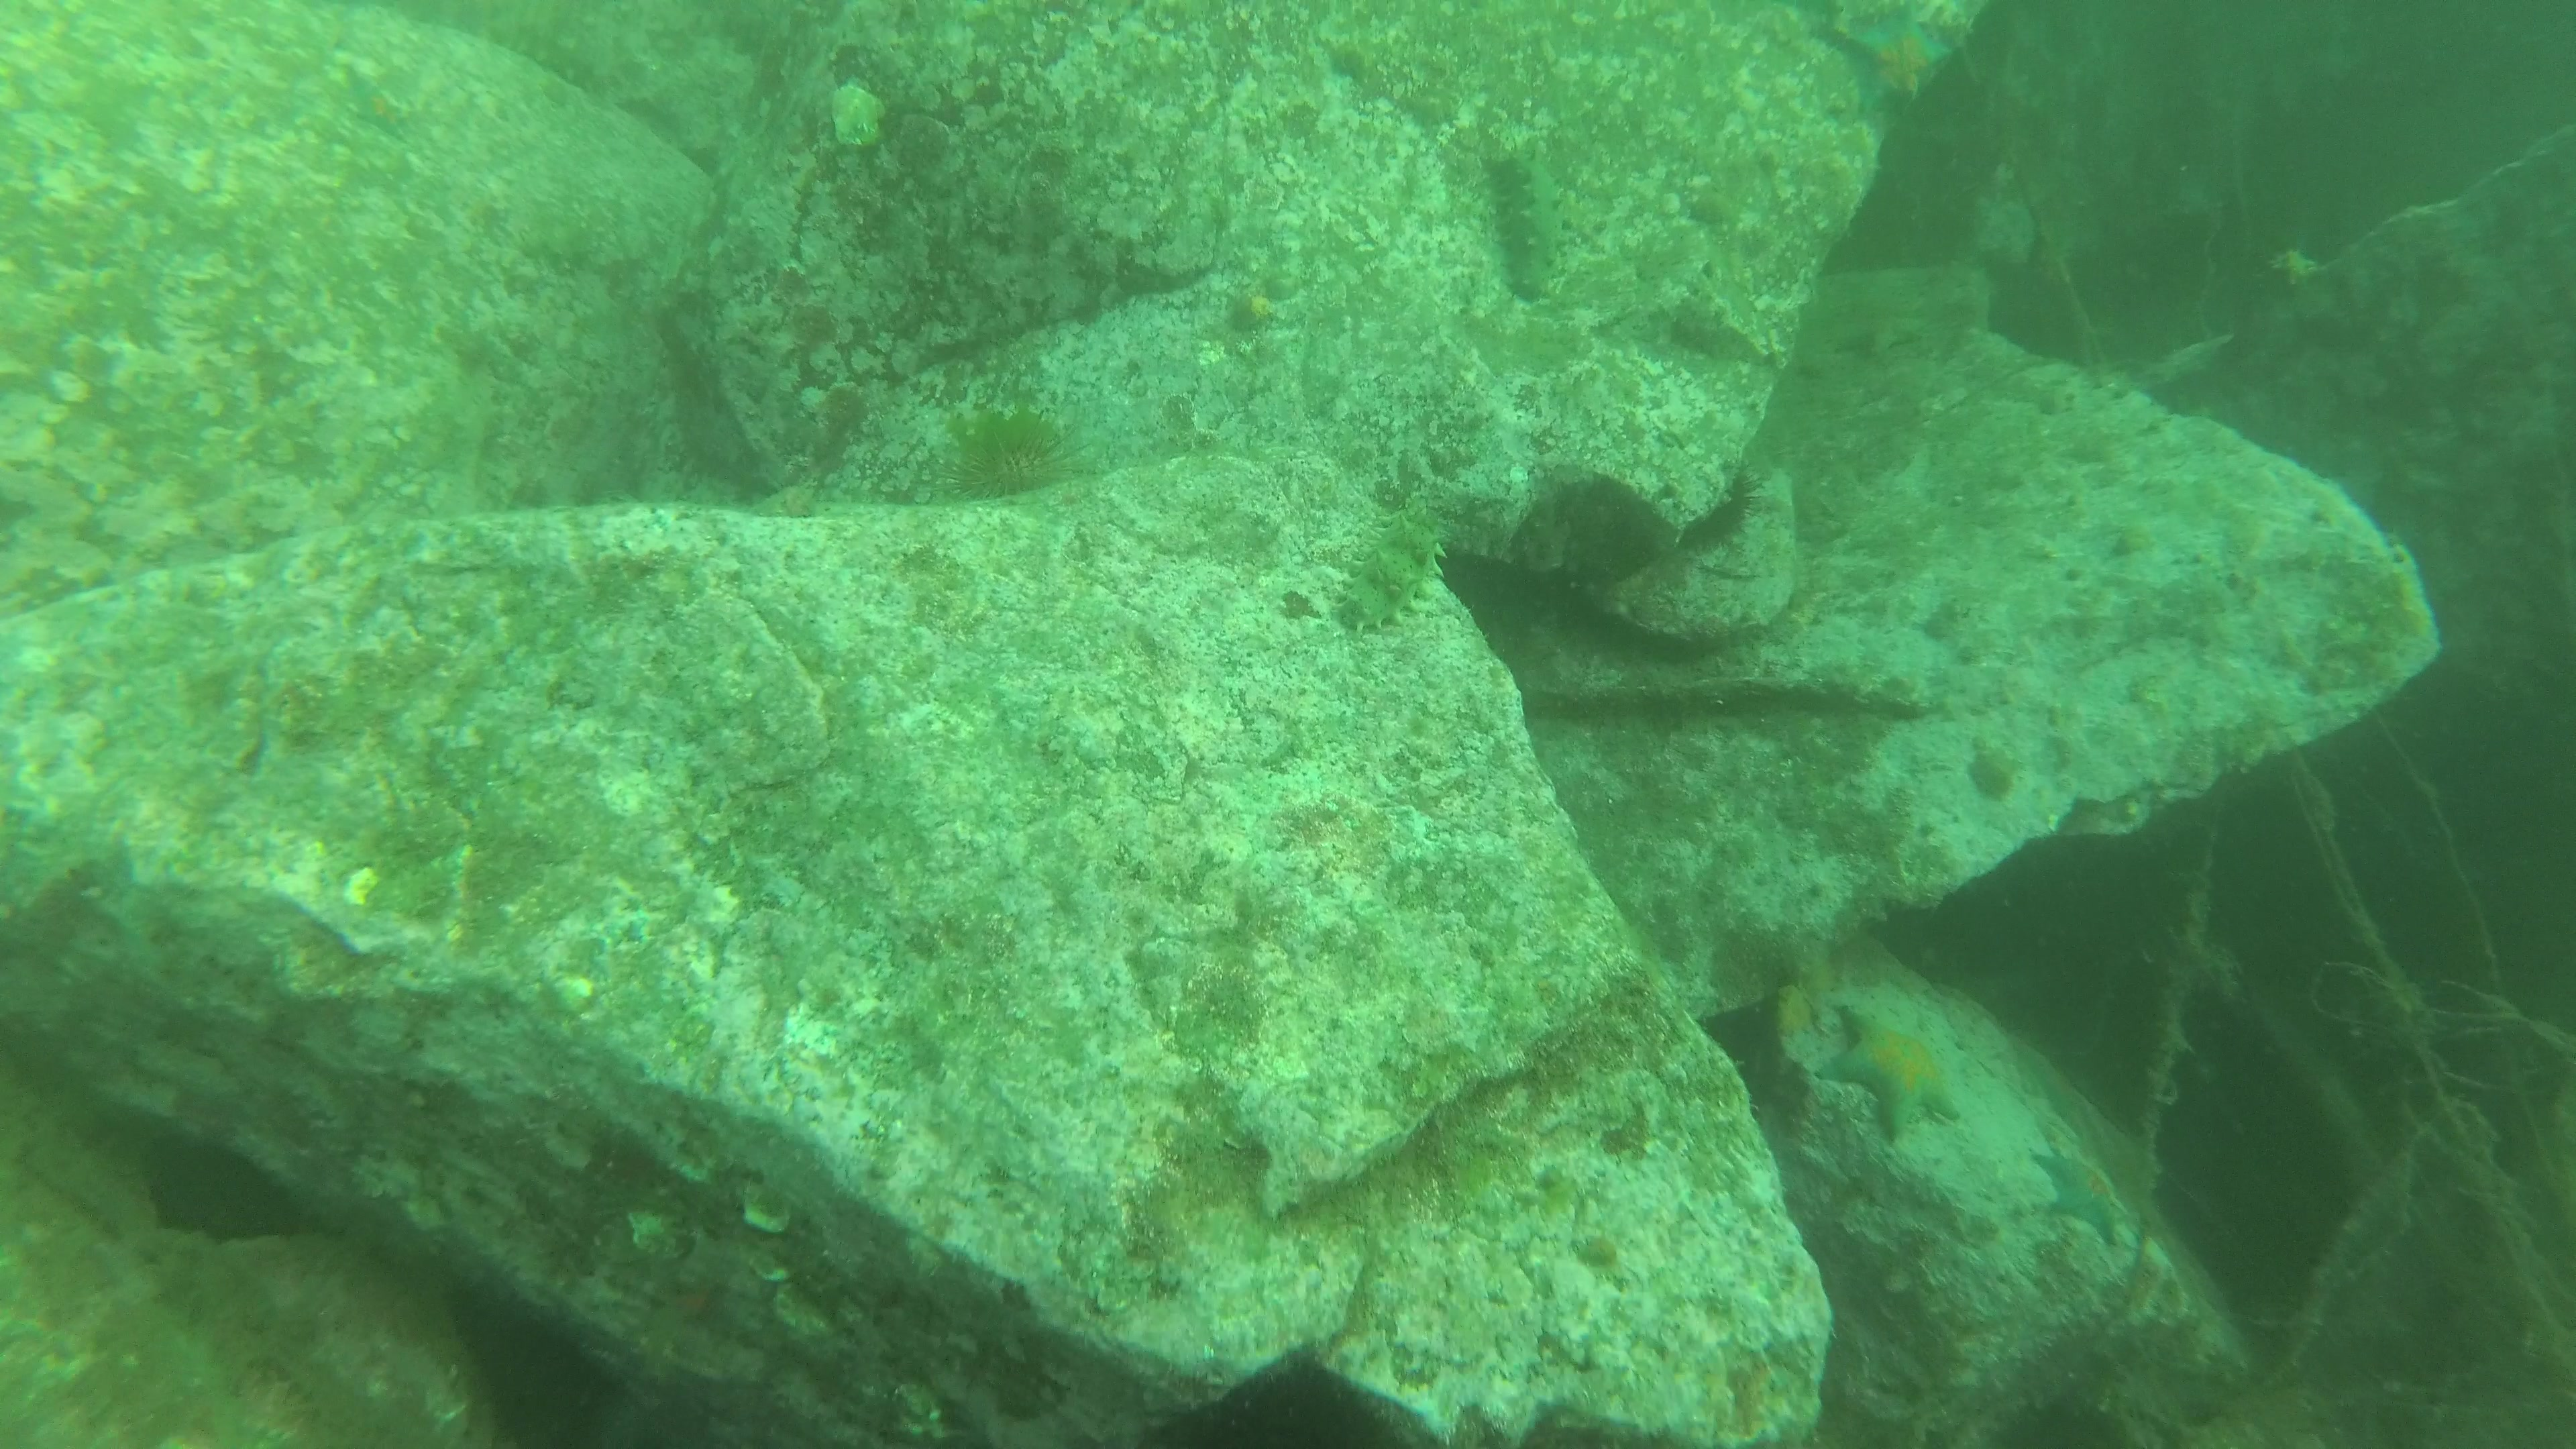echinus: (136, 1123, 304, 1246), (934, 402, 1092, 504)
holothurian: (1329, 483, 1447, 646), (1488, 143, 1583, 311)
starfish: (1821, 996, 1969, 1146), (2028, 1138, 2141, 1253), (1844, 14, 1962, 111), (1835, 303, 1930, 368)
